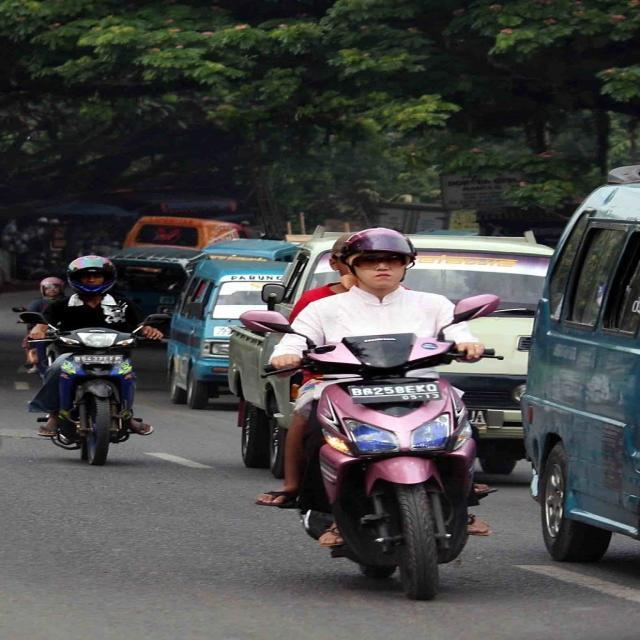car: (512, 198, 640, 603)
motorcycle: (245, 285, 500, 600), (34, 322, 145, 469)
